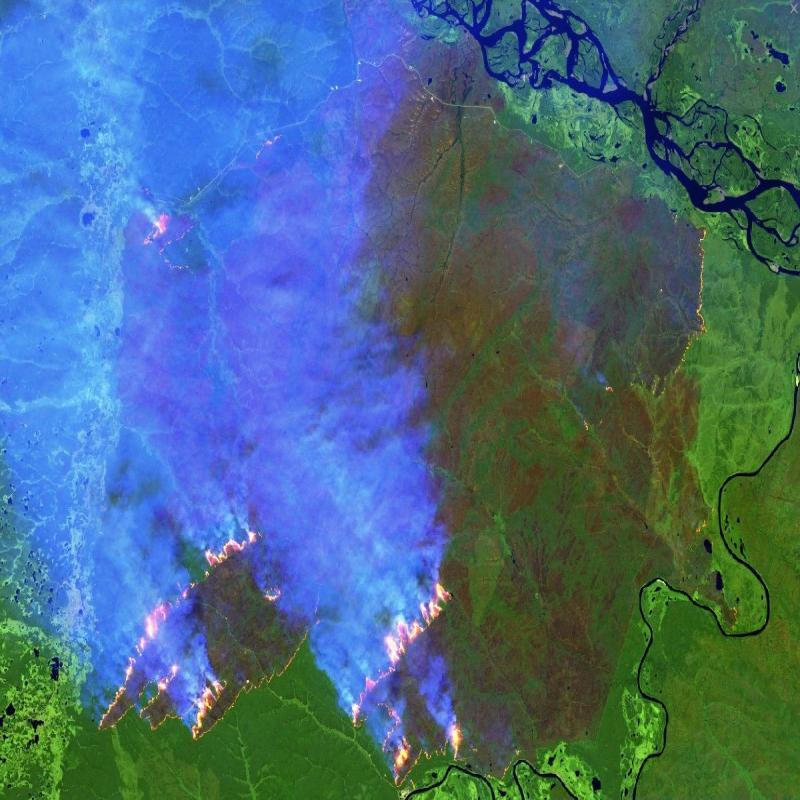fire: (89, 203, 318, 746), (347, 572, 466, 790)
